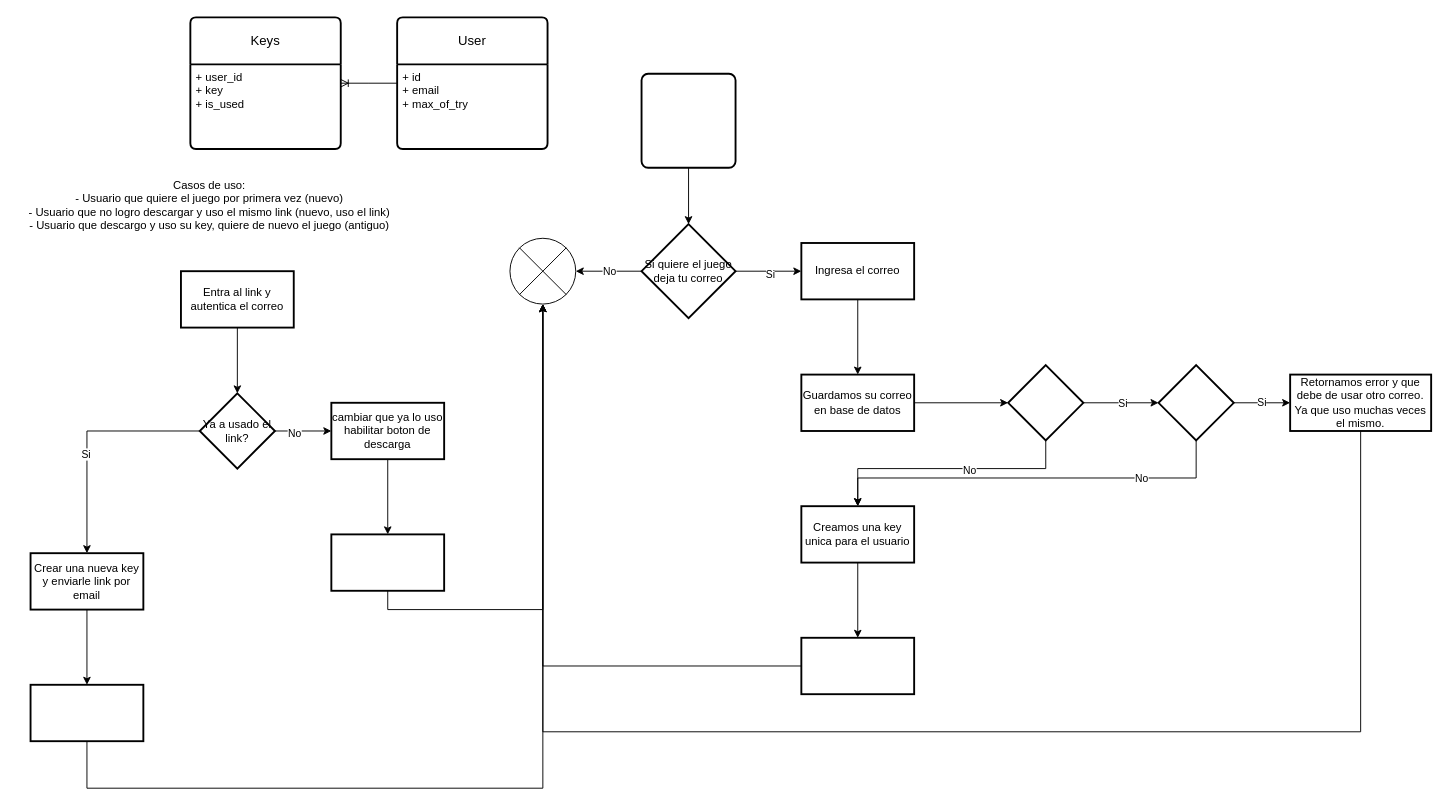
Image size: 1448x812. Some labels were removed from this diagram. Each missing label, with the centre of its shape:
Descargar Juego: pixel 387 562
Enviamos un correo con un link + key para la autenticacion: pixel 857 665
Mandar mensaje al cliente que se envio un nuevo link al correo: pixel 86 712
Tenemos mas de x keys creadas para el usuario?: pixel 1195 402
Usuario Quiere el juego: pixel 688 120
Ya tenemos su correo guardado?: pixel 1045 402
